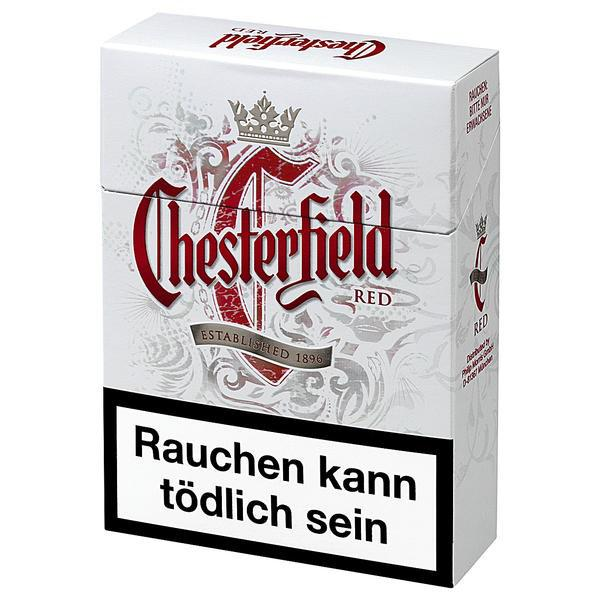chesterfield_red: (105, 81, 447, 539)
